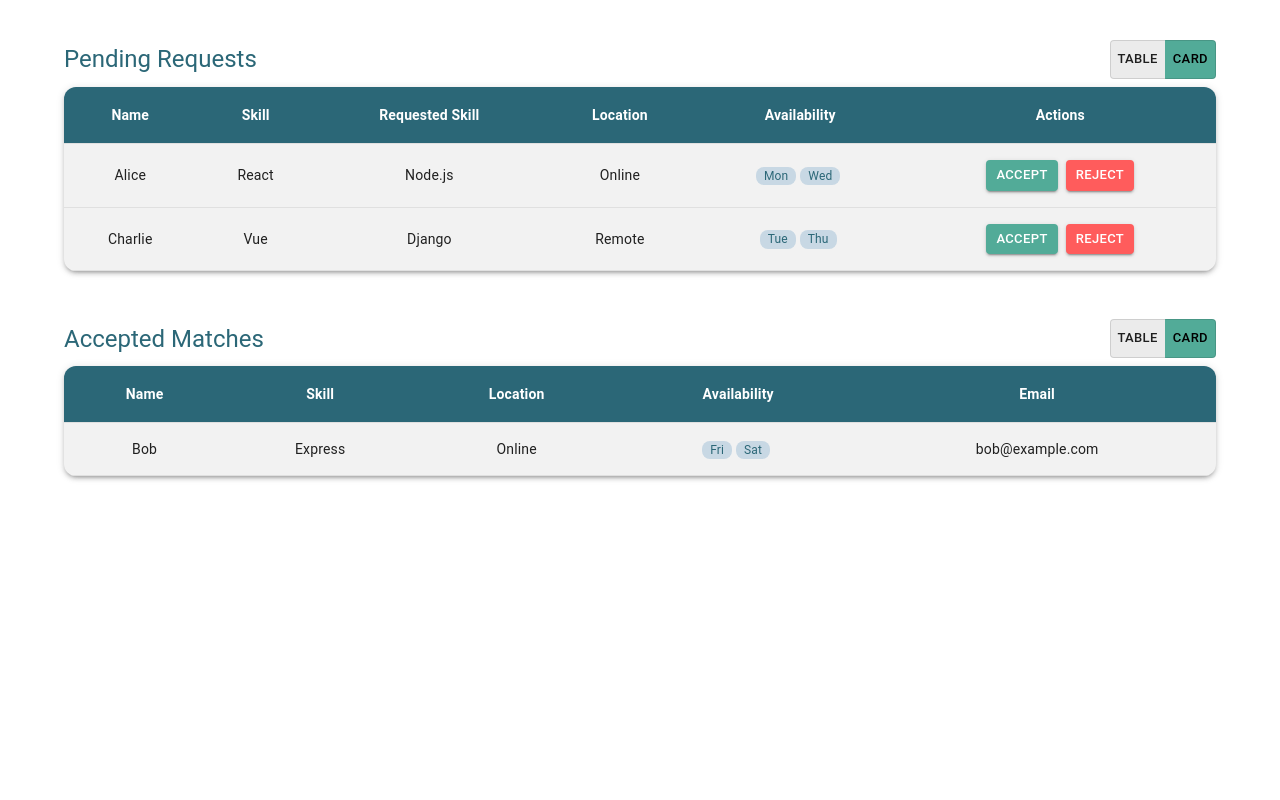
Test: rejects a pending request
This screenshot has width=1280, height=800.
Check: the text "Charlie" is shown, box [64, 207, 196, 271]
Click the button "Reject" in the row of "Charlie": (1100, 239) [1066, 224, 1134, 254]
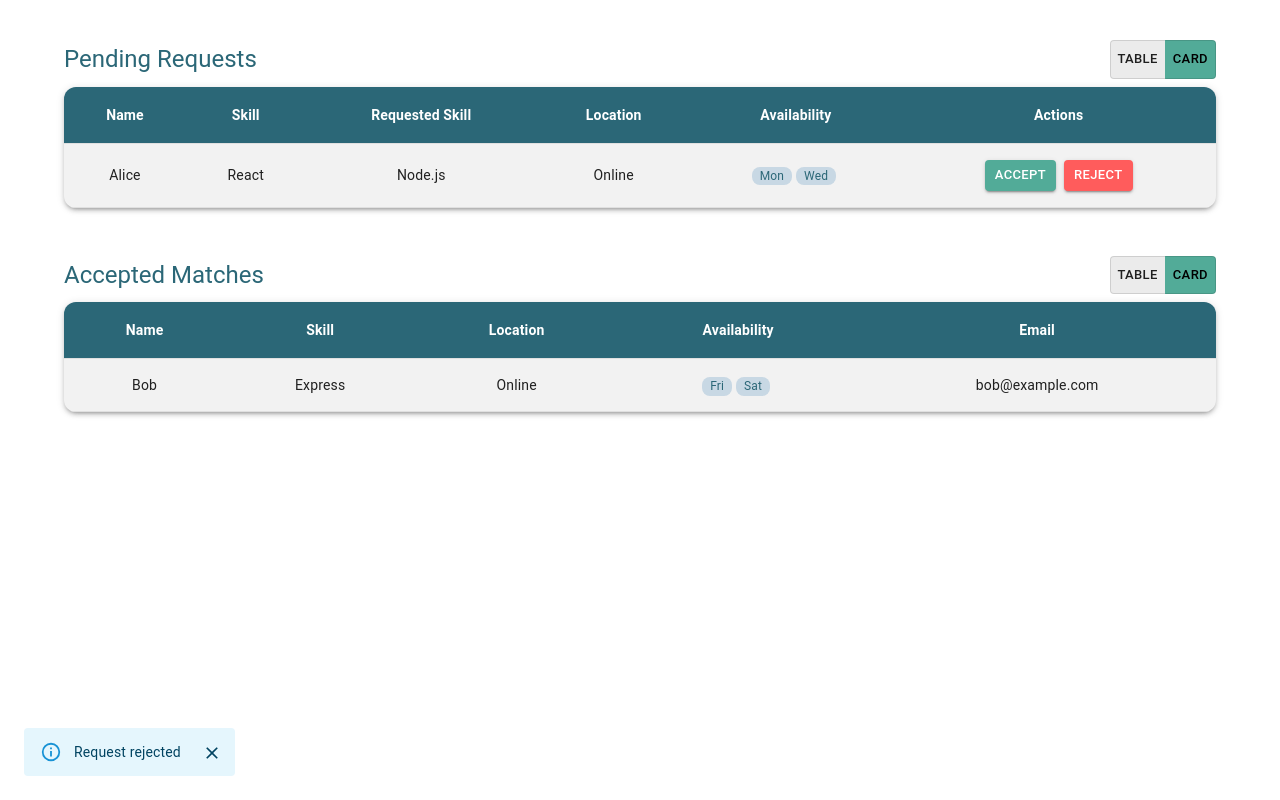
Check: the text "Request rejected" is shown, box [74, 744, 181, 760]
Check: the text "Charlie" is gone
